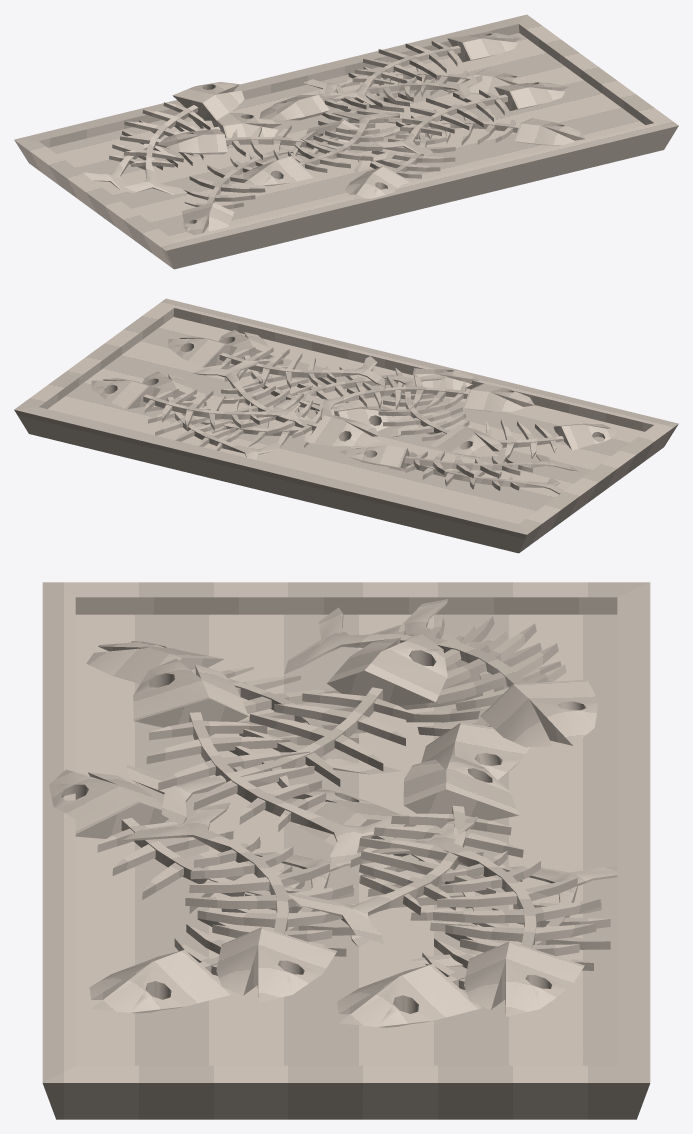
File: Int_FishDish.fbx
3 renders of one model, top to bottom at view 1: azimuth 30°, elevation 25°; view 2: azimuth 150°, elevation 25°; view 3: azimuth 270°, elevation 25°, orthographic. The views are drawn at different scales.
Parts seen in each view (by area): view 1: Fishs; view 2: Fishs; view 3: Fishs.
Part boxes in pixels (<box>): Fishs: <box>14,14,678,269</box>; Fishs: <box>14,298,678,553</box>; Fishs: <box>42,582,650,1119</box>.
Size of the model in its own units: 2.61 by 0.2403 by 1.34.
